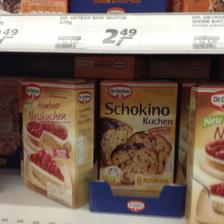Kuchen: (18, 77, 96, 207), (98, 79, 178, 191)
